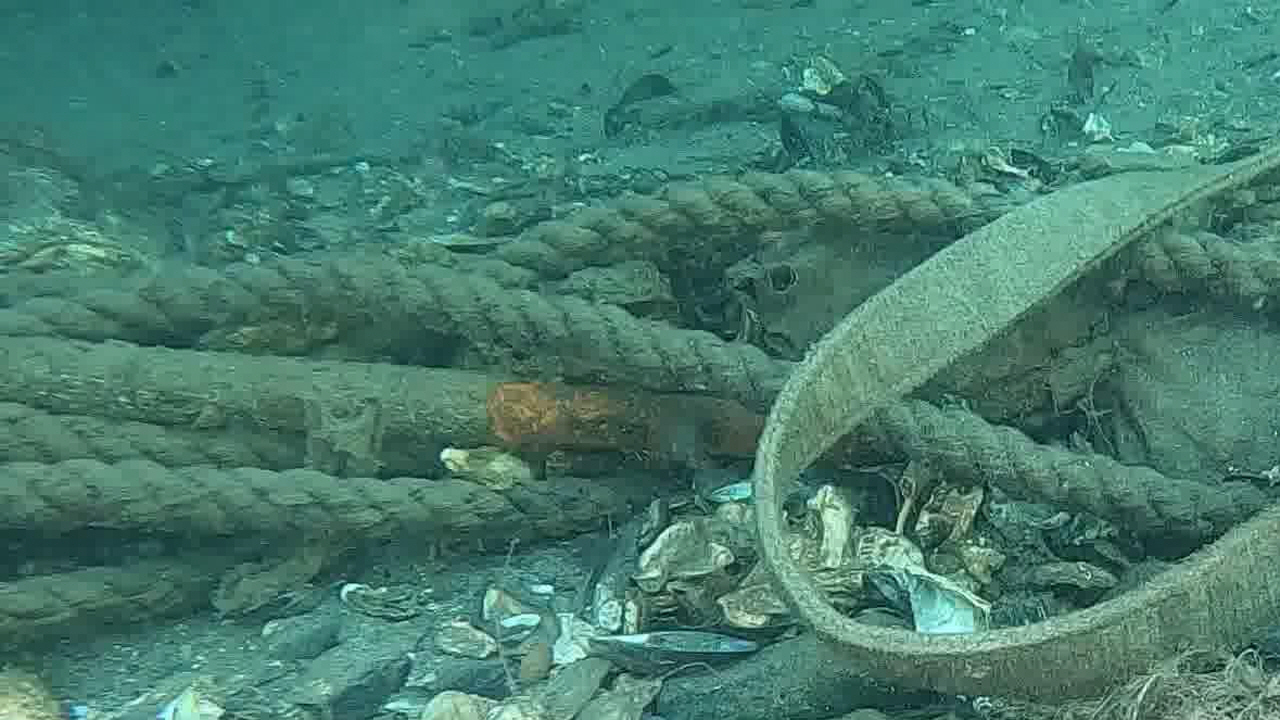bundle of ropes: (0, 164, 1279, 648)
